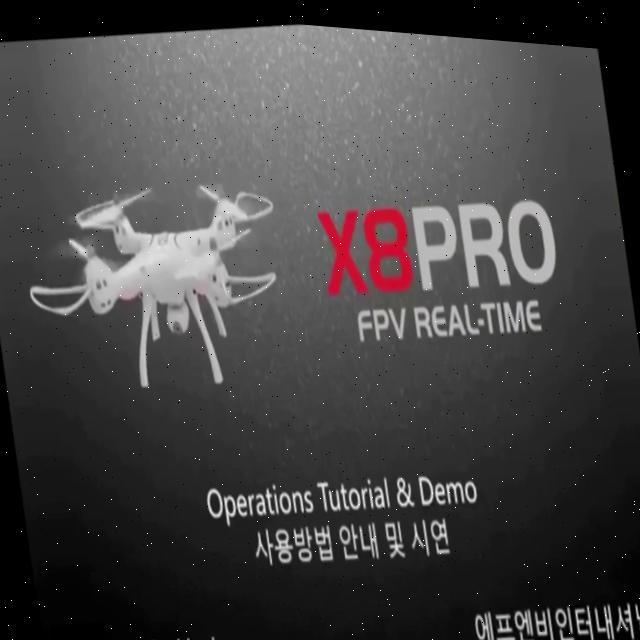drone: (13, 155, 302, 416)
